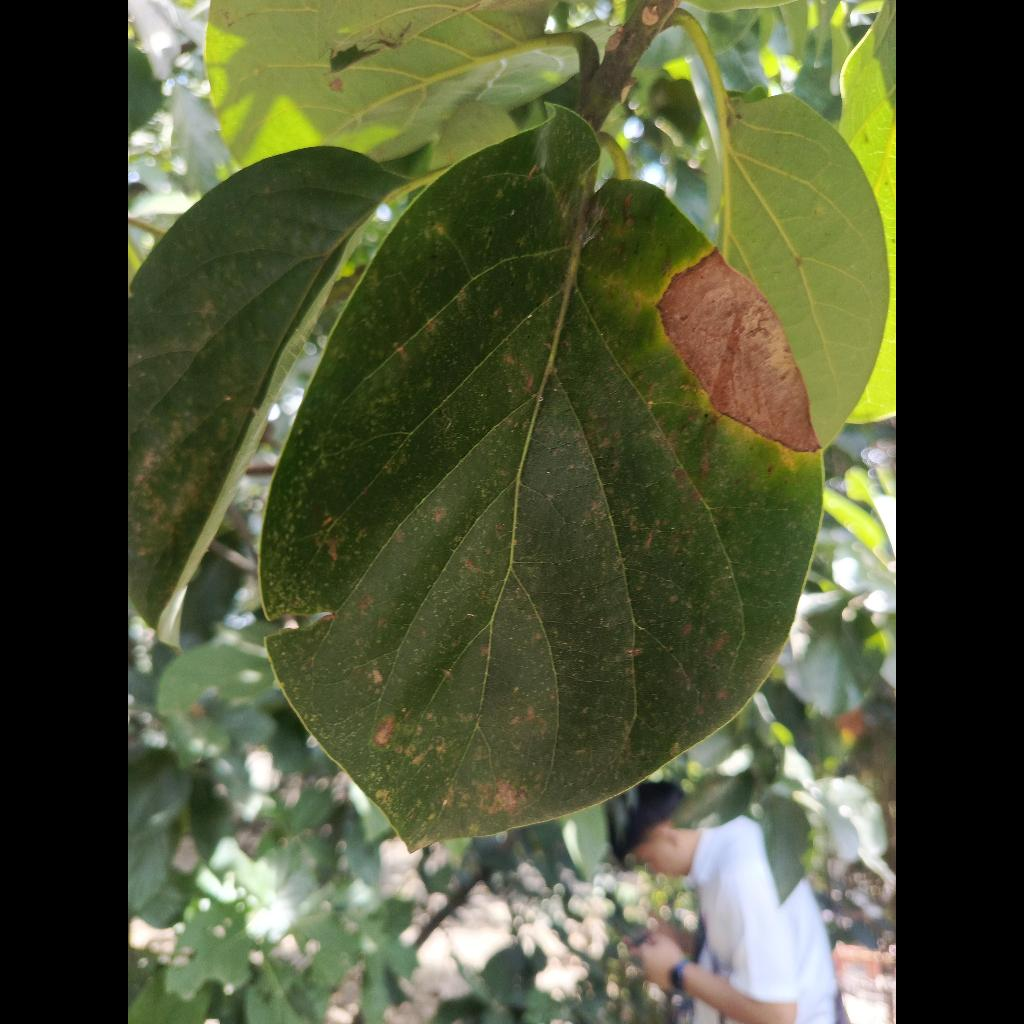antracnosis_hoja: (260, 107, 823, 850)
